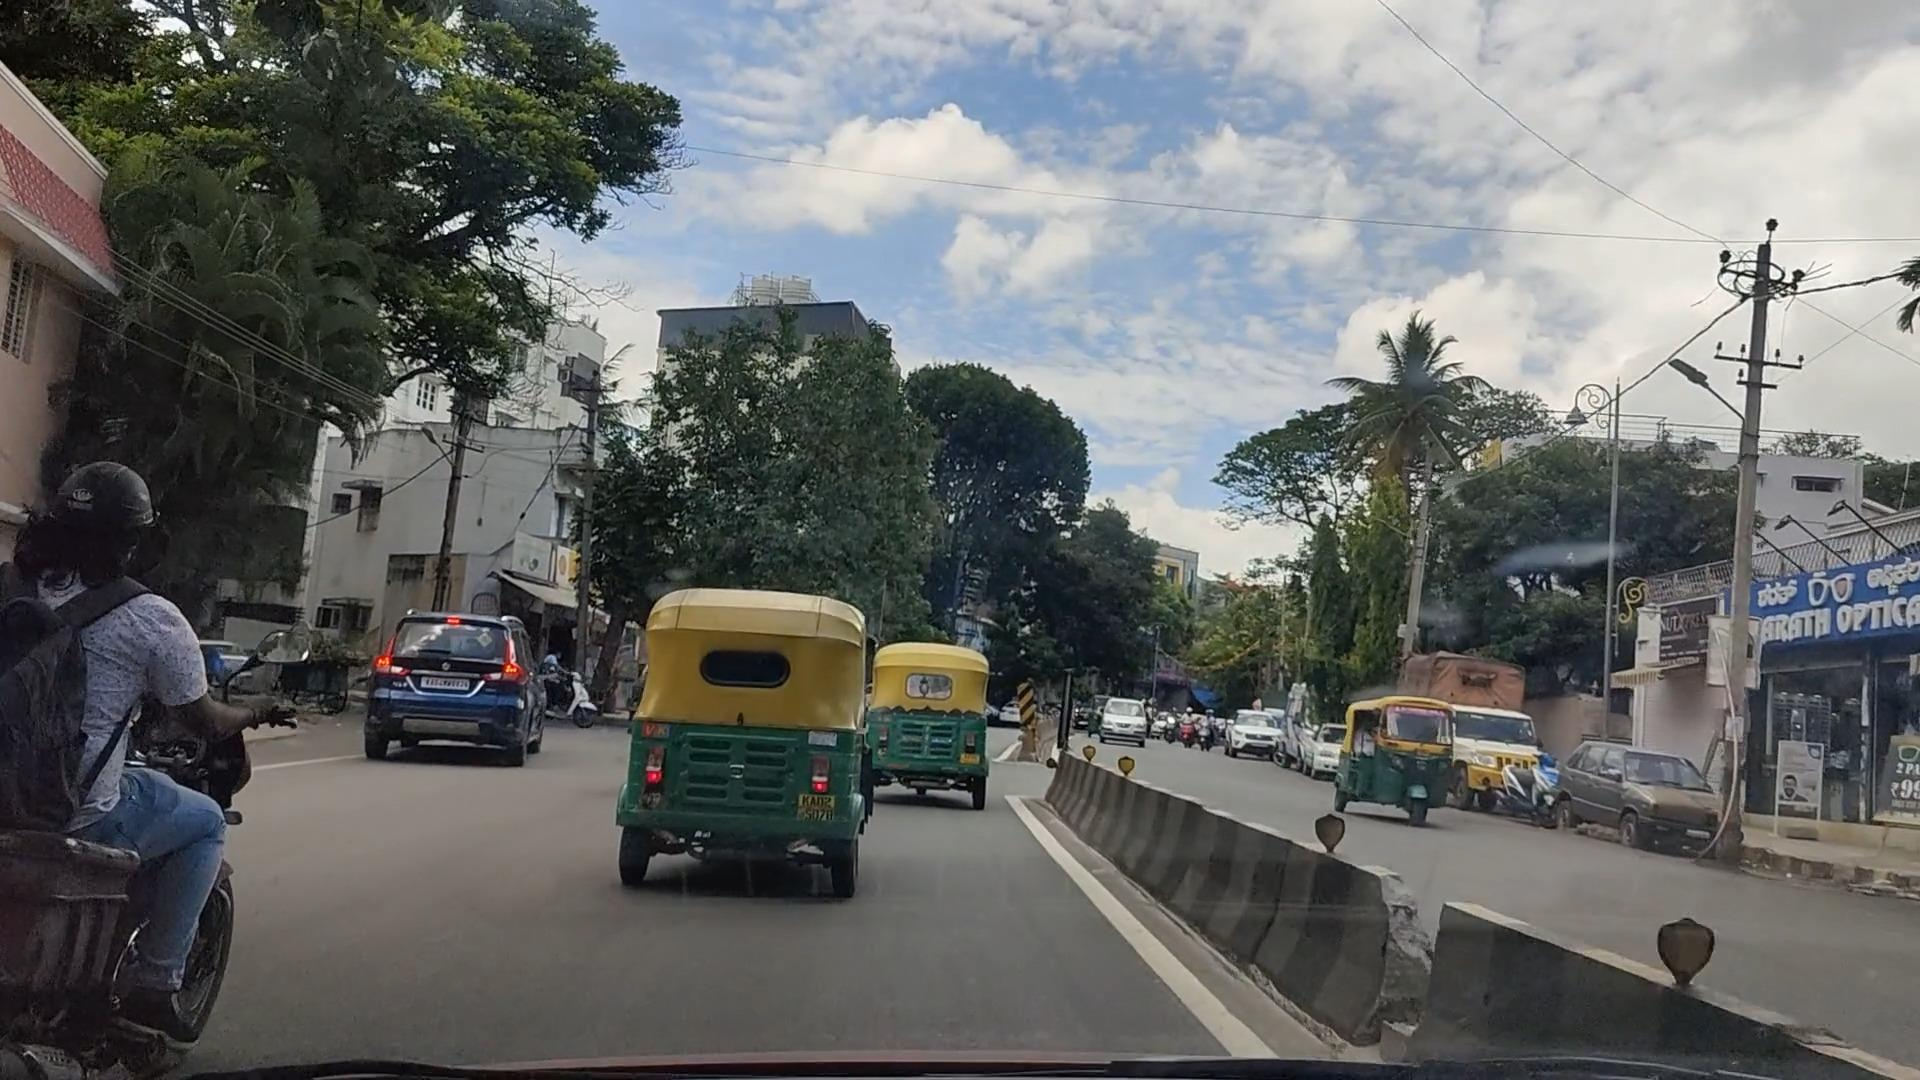LMV: (8, 458, 248, 1052), (655, 585, 861, 963), (371, 603, 579, 812), (878, 636, 1004, 836)
